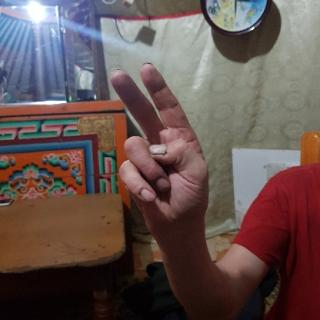TA: (104, 56, 212, 241)
